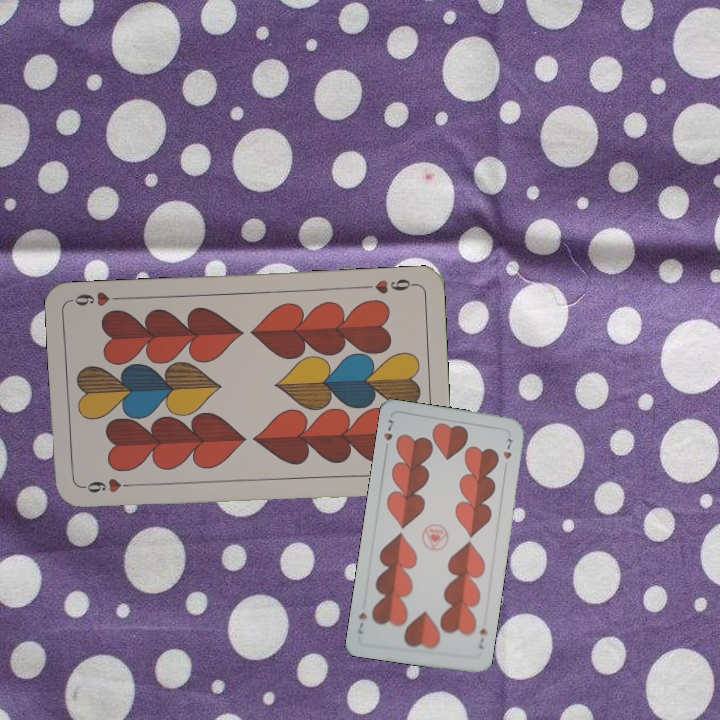H7: (380, 415, 396, 454), (475, 624, 489, 652)
H9: (359, 274, 418, 296), (78, 474, 137, 496)
